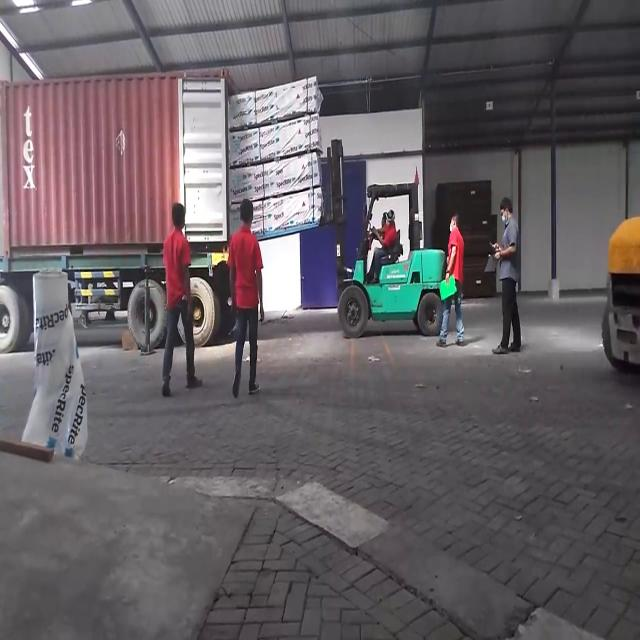Chariot elevateur: (331, 168, 473, 344), (596, 199, 640, 385)
